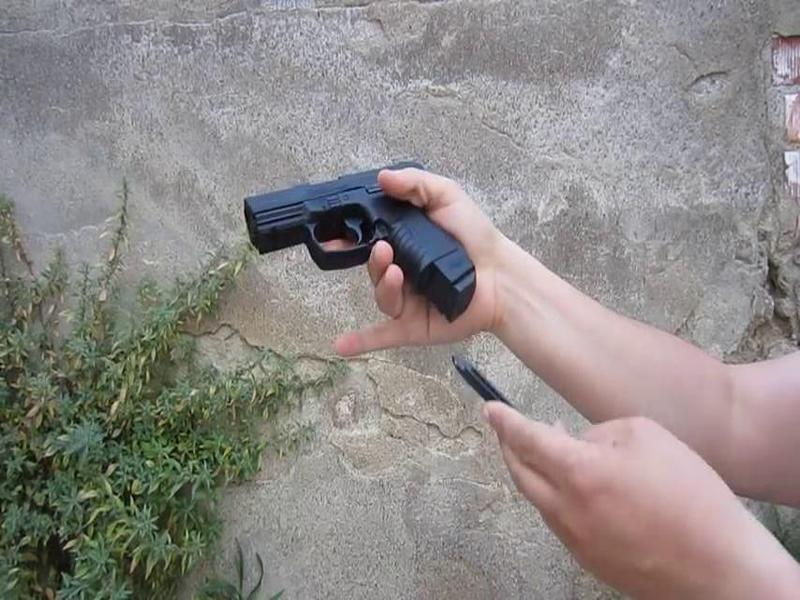Pistola: (238, 136, 490, 349)
